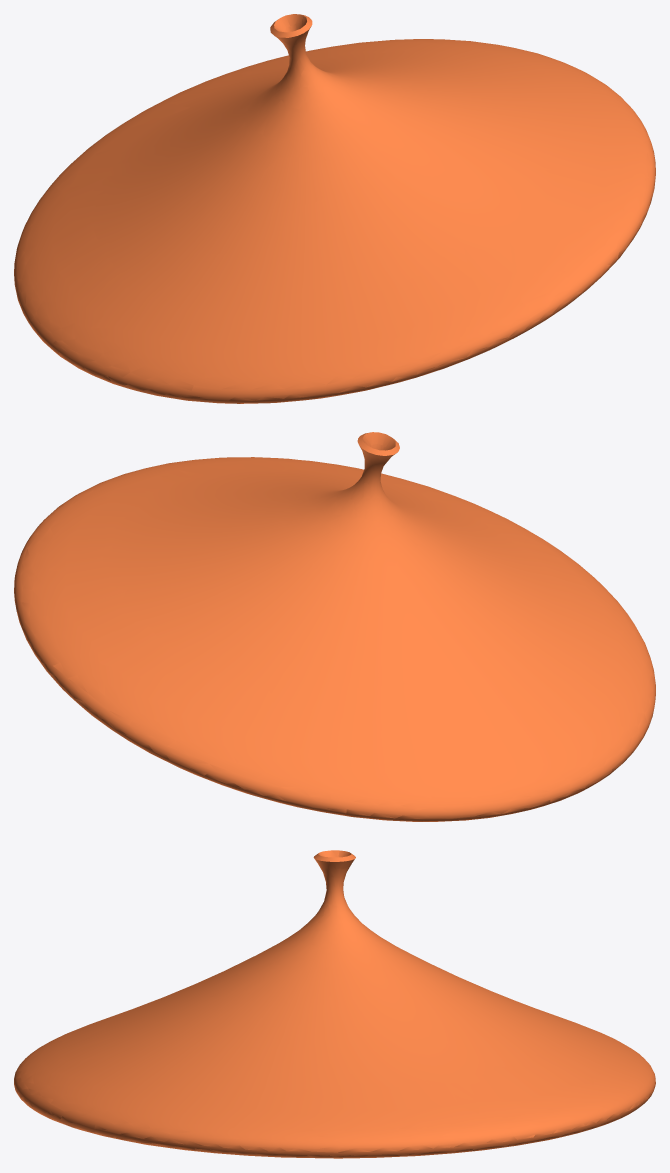
Rendered from bowl2.glb.
3 renders of one model, top to bottom at view 1: azimuth 30°, elevation 25°; view 2: azimuth 150°, elevation 25°; view 3: azimuth 270°, elevation 25°, orthographic.
Visible parts, largest first — view 1: 5b2d51d2-5a9c-4498-a6c7-dad9a1aa0d11; view 2: 5b2d51d2-5a9c-4498-a6c7-dad9a1aa0d11; view 3: 5b2d51d2-5a9c-4498-a6c7-dad9a1aa0d11.
Part boxes in pixels (<box>): 5b2d51d2-5a9c-4498-a6c7-dad9a1aa0d11: <box>14,14,655,403</box>; 5b2d51d2-5a9c-4498-a6c7-dad9a1aa0d11: <box>14,432,655,821</box>; 5b2d51d2-5a9c-4498-a6c7-dad9a1aa0d11: <box>14,850,655,1158</box>.
Bounding box in the file's own units: 54.1 × 26.53 × 55.33.
